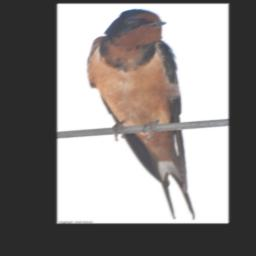Swallow: (86, 8, 197, 221)
